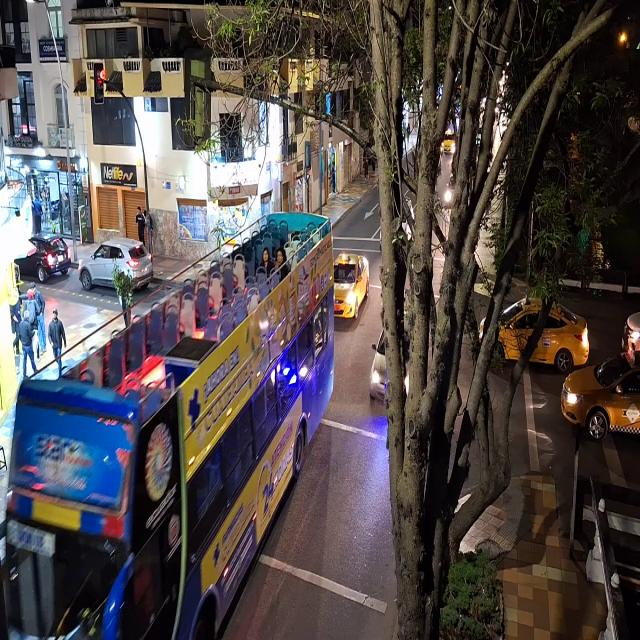BUS: (0, 220, 326, 639)
SED: (482, 301, 592, 368), (560, 355, 638, 433), (334, 253, 369, 317), (626, 114, 640, 134)
SUV: (81, 238, 154, 290)
